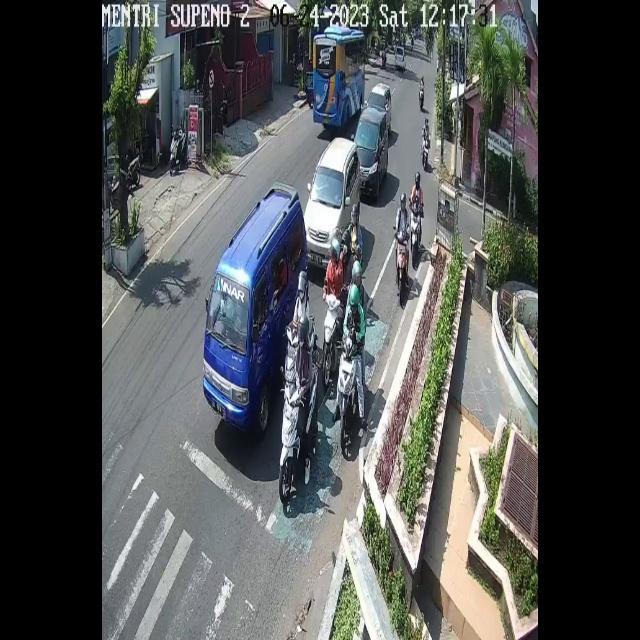bus: (280, 370, 319, 505), (284, 313, 315, 391), (337, 338, 358, 451), (321, 291, 340, 390), (394, 228, 411, 301), (412, 201, 422, 269), (422, 135, 430, 177), (419, 84, 426, 111)
car: (313, 27, 366, 126)
motorcycle: (203, 184, 308, 436), (303, 136, 360, 271), (354, 104, 388, 190), (366, 84, 392, 126), (394, 45, 407, 73)
